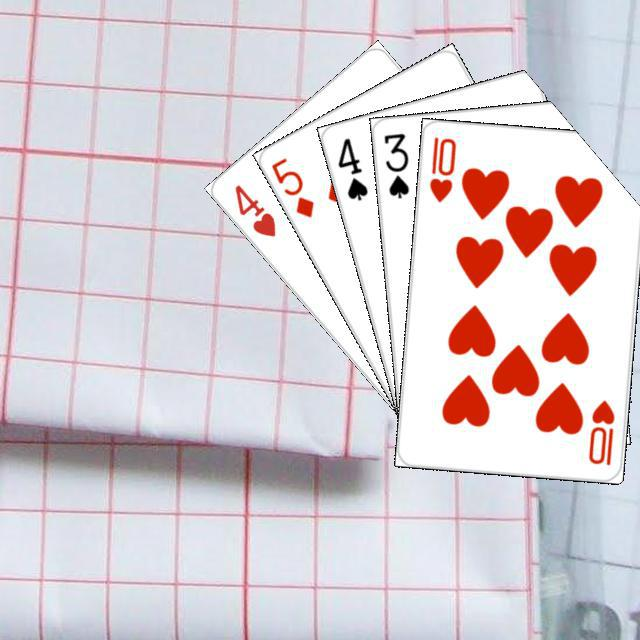10h: (424, 132, 458, 204), (583, 395, 616, 468)
3s: (379, 128, 411, 200)
4h: (229, 179, 278, 239)
4s: (332, 133, 370, 203)
5d: (266, 152, 316, 220)
